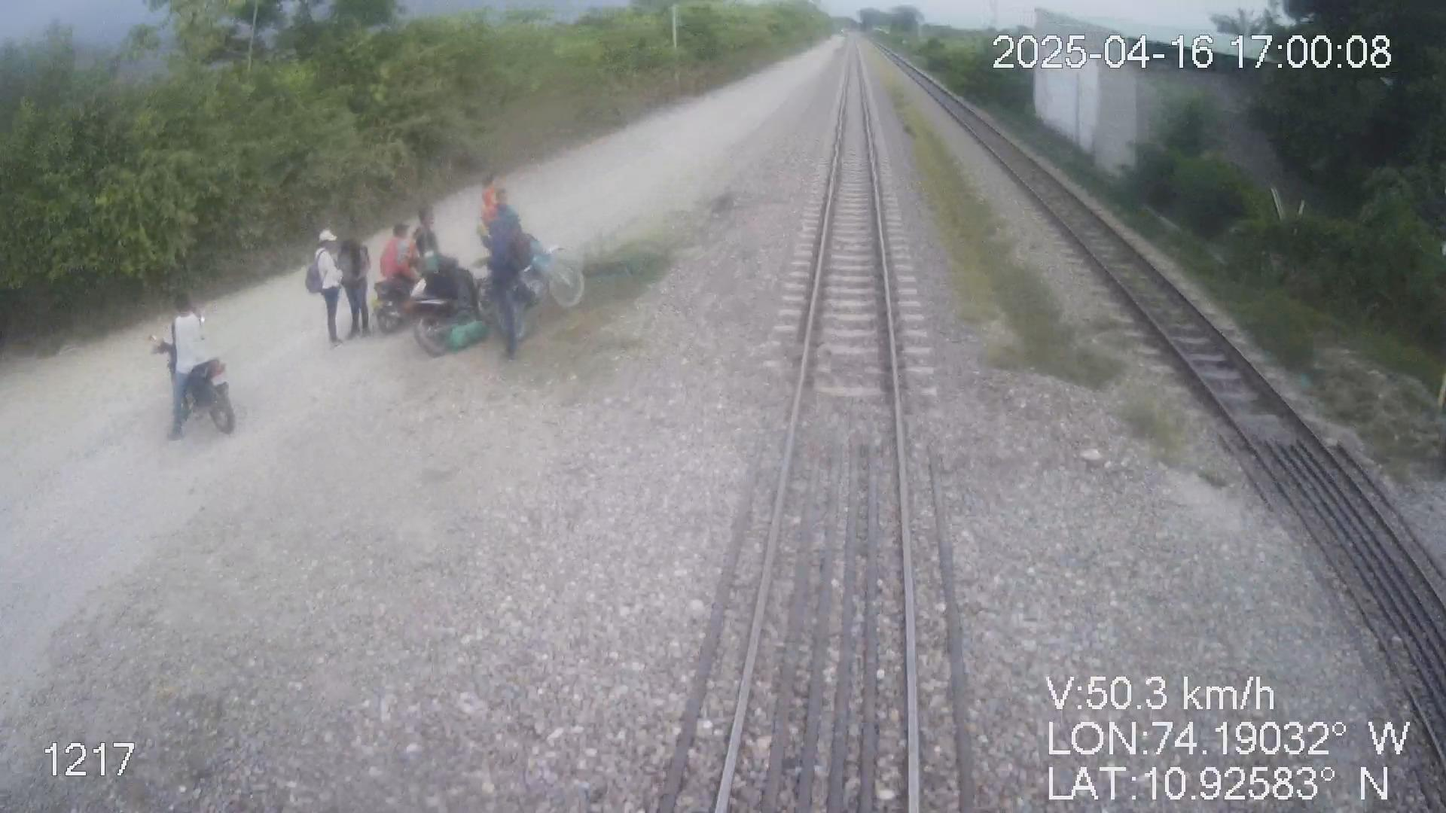Pasto: (873, 0, 1445, 492), (0, 0, 833, 333)
